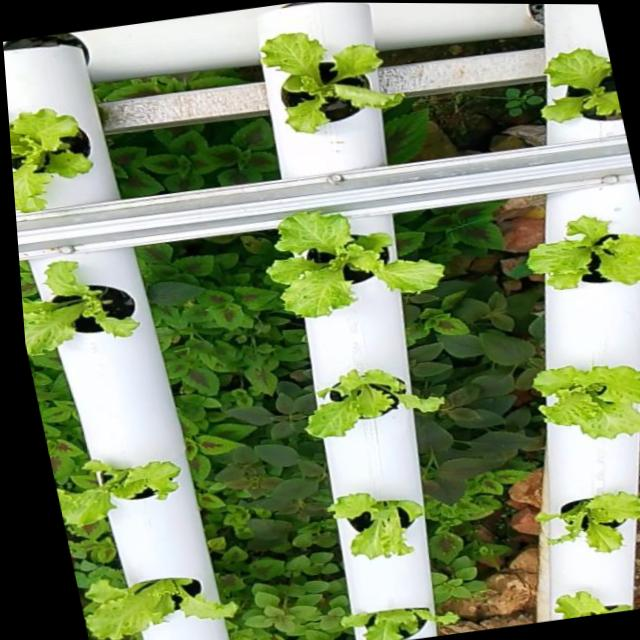Baby: (265, 215, 445, 322), (258, 33, 404, 136), (22, 265, 135, 361), (304, 375, 446, 446), (9, 110, 88, 215), (529, 220, 640, 294), (60, 468, 177, 537), (81, 588, 233, 640), (535, 371, 640, 446), (327, 501, 425, 569), (539, 500, 640, 562), (544, 49, 622, 125)
